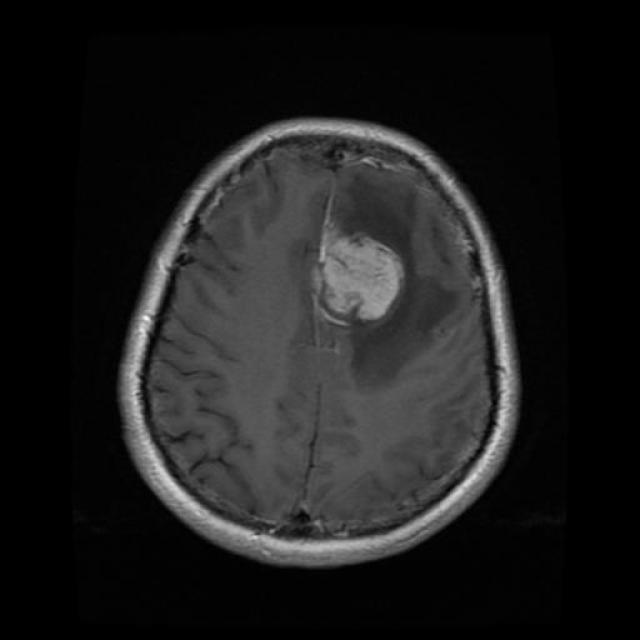meningioma: (322, 232, 404, 321)
